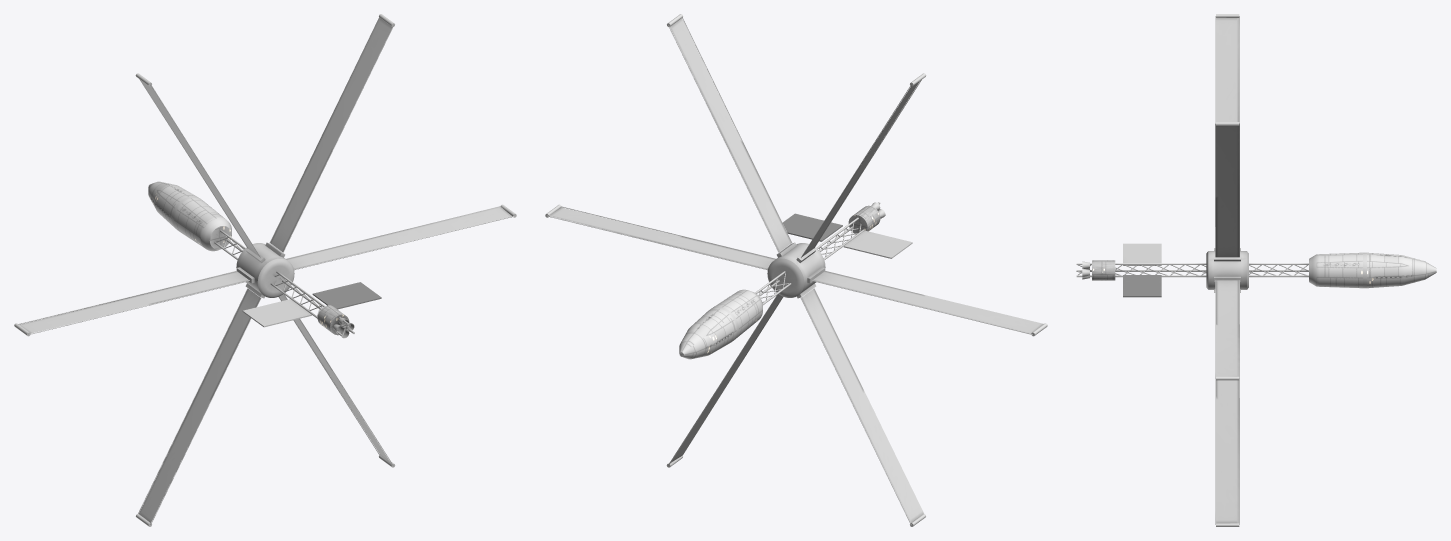
Rendered from ship-sorakaze.glb.
3 renders of one model, left to right at view 1: azimuth 30°, elevation 25°; view 2: azimuth 150°, elevation 25°; view 3: azimuth 270°, elevation 25°, orthographic. The views are drawn at different scales.
Parts seen in each view (by area): view 1: Rotor, Hull; view 2: Rotor, Hull; view 3: Rotor, Hull.
Part boxes in pixels (x1,y1,x2,y2): Rotor: [14, 14, 516, 526]; Hull: [148, 181, 381, 338]; Rotor: [545, 14, 1047, 526]; Hull: [679, 202, 912, 359]; Rotor: [1215, 14, 1239, 526]; Hull: [1076, 243, 1436, 297].
Bounding box in the file's own units: 1.33 × 1.15 × 0.9307.
10 materials, 1 textured.
